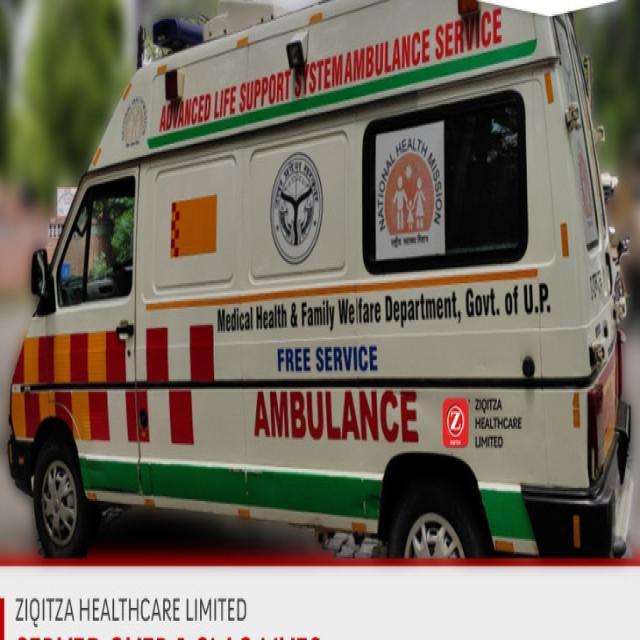emergency: (8, 0, 634, 558)
